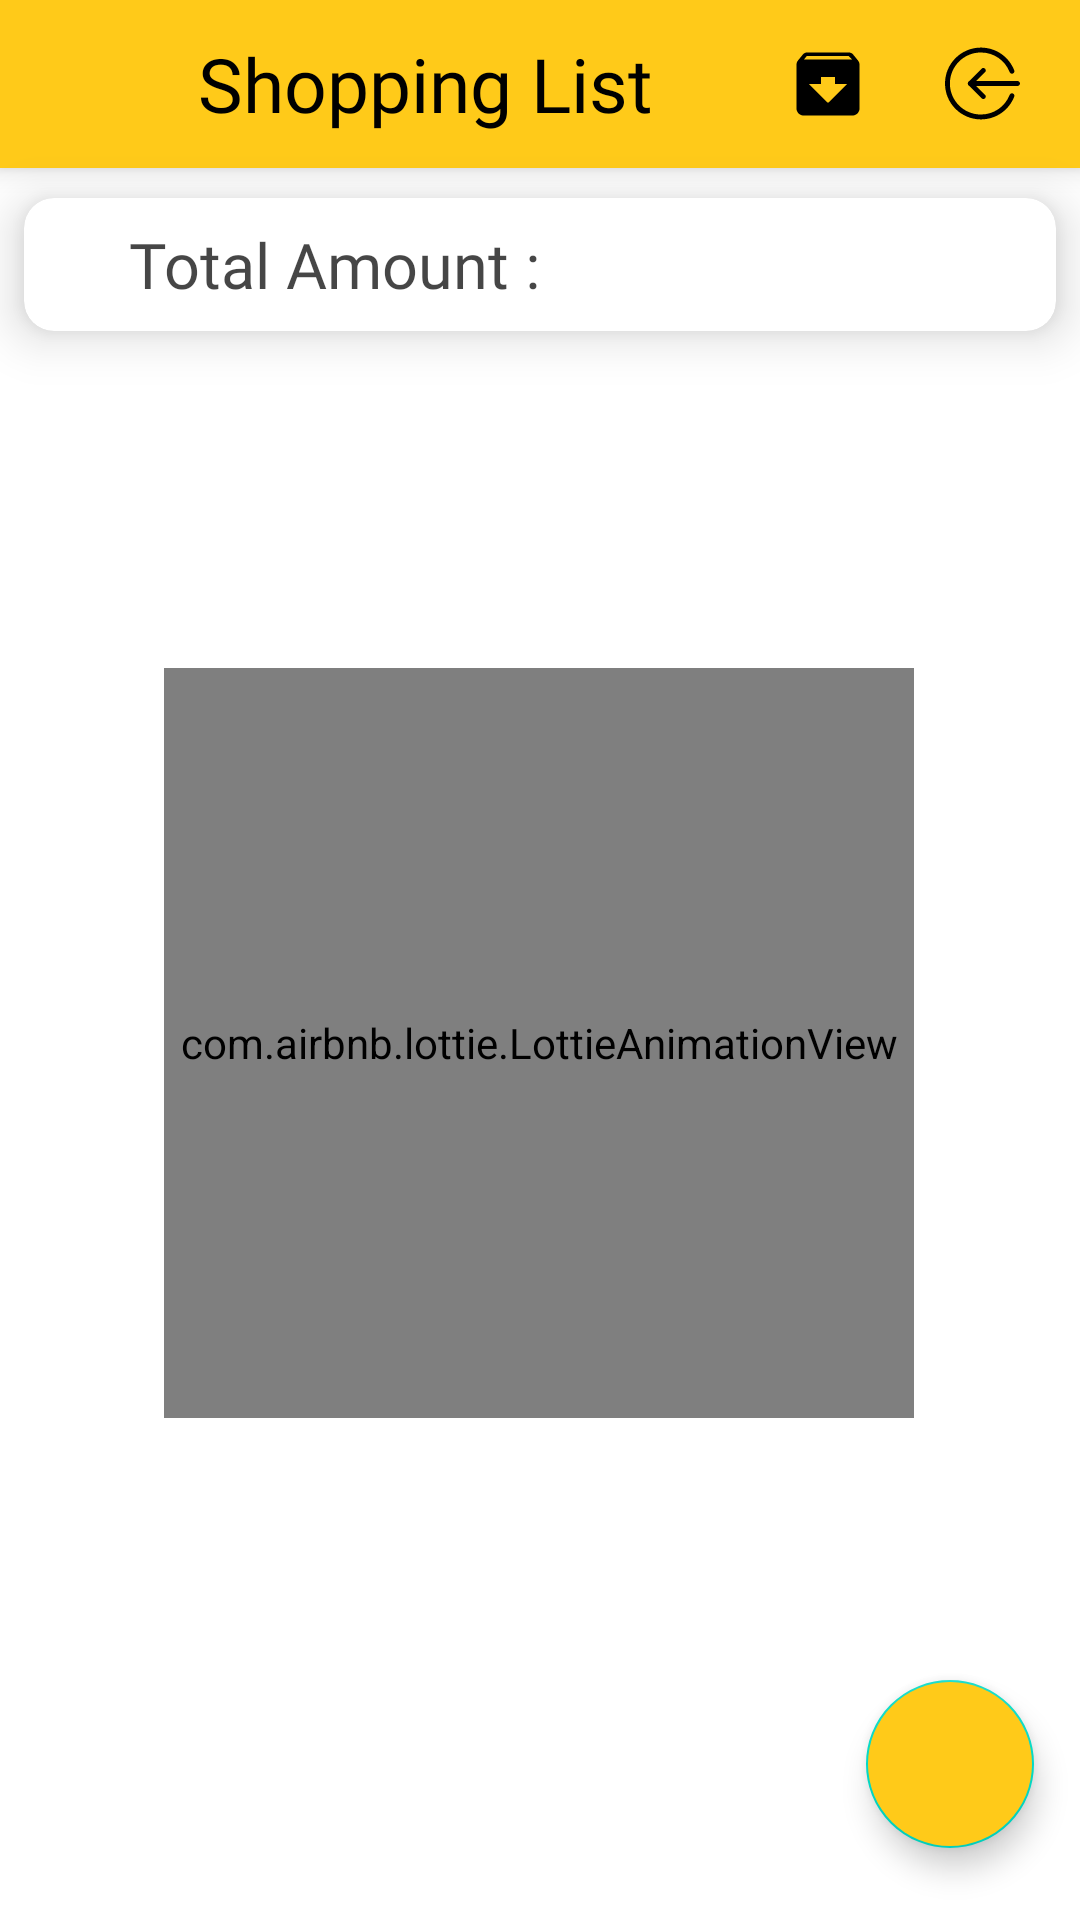

Screen size 1080*1920. Icon name, then its box in pixels as box(x1, y1, x2, y2):
archive: box(796, 52, 860, 116)
